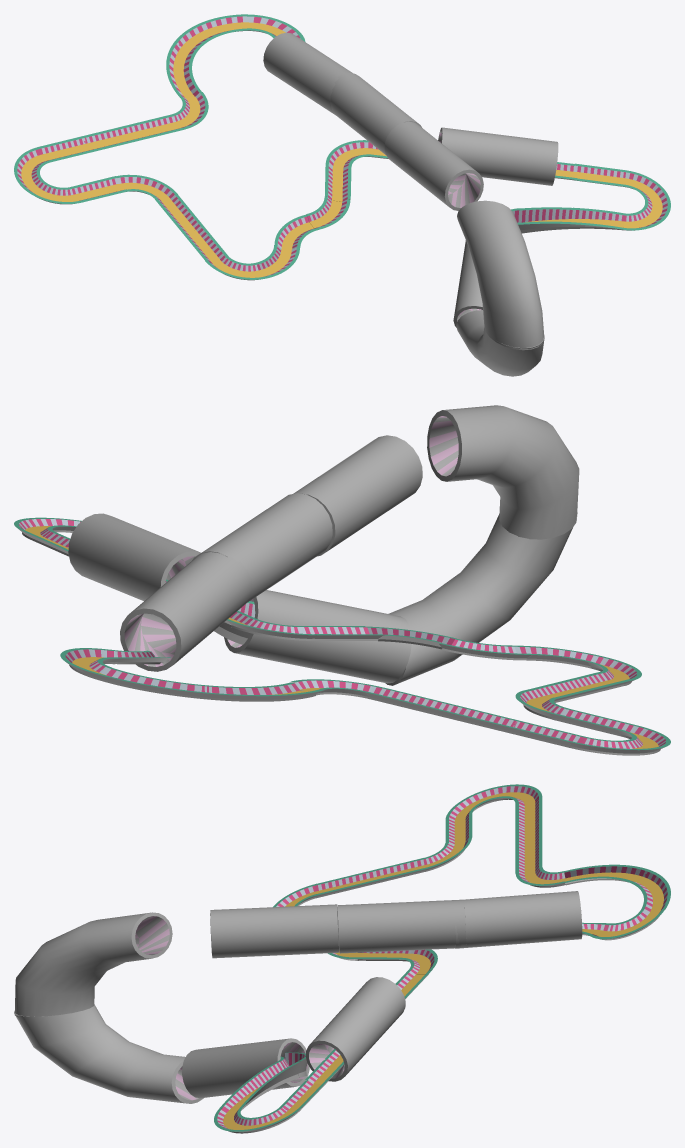
Rendered from Track_01.fbx.
3 renders of one model, top to bottom at view 1: azimuth 30°, elevation 25°; view 2: azimuth 150°, elevation 25°; view 3: azimuth 270°, elevation 25°, orthographic. The views are drawn at different scales.
Parts seen in each view (by area): view 1: polySurface3, pPipe4, pPipe6, pPipe2, pPipe3, polySurface4, pCube16, pCube17, newtunneltrack:pCube12, pPipe5, newtunneltrack:figure8track:pCube11, pCube22 (+19 smaller); view 2: polySurface3, polySurface4, pPipe5, pPipe2, pPipe4, pPipe6, pPipe3, pCube16, pCube17, pCube25, pCube15, pCube26 (+18 smaller); view 3: polySurface3, polySurface4, pPipe4, pPipe3, pPipe2, pPipe6, pPipe5, pCube17, pCube16, pCube14, newtunneltrack:pCube12, pCube24 (+16 smaller).
Boxes of the visible parts, <box> form: polySurface3: <box>457,200,544,350</box>; pPipe4: <box>384,121,483,210</box>; pPipe6: <box>438,127,558,185</box>; pPipe2: <box>263,32,353,114</box>; pPipe3: <box>330,73,421,154</box>; polySurface4: <box>456,310,544,376</box>; pCube16: <box>176,14,252,51</box>; pCube17: <box>166,40,201,98</box>; newtunneltrack:pCube12: <box>518,207,572,233</box>; pPipe5: <box>453,240,482,327</box>; newtunneltrack:figure8track:pCube11: <box>571,207,625,230</box>; pCube22: <box>115,174,177,201</box>; polySurface3: <box>427,405,579,539</box>; polySurface4: <box>385,512,577,685</box>; pPipe5: <box>224,590,411,683</box>; pPipe2: <box>120,552,252,671</box>; pPipe4: <box>293,435,422,556</box>; pPipe6: <box>68,513,200,600</box>; pPipe3: <box>192,493,332,602</box>; pCube16: <box>82,667,213,699</box>; pCube17: <box>204,682,324,701</box>; pCube25: <box>513,645,605,668</box>; pCube15: <box>291,679,383,698</box>; pCube26: <box>439,639,531,660</box>; polySurface3: <box>14,912,172,1017</box>; polySurface4: <box>14,1004,203,1103</box>; pPipe4: <box>210,904,339,958</box>; pPipe3: <box>337,899,466,953</box>; pPipe2: <box>455,891,582,948</box>; pPipe6: <box>305,977,405,1081</box>; pPipe5: <box>182,1038,309,1098</box>; pCube17: <box>564,864,651,885</box>; pCube16: <box>629,870,670,914</box>; pCube14: <box>590,908,664,940</box>; newtunneltrack:pCube12: <box>247,1061,300,1091</box>; pCube24: <box>314,871,370,898</box>.
Size of the model in its own units: 5809 by 1908 by 5766.
